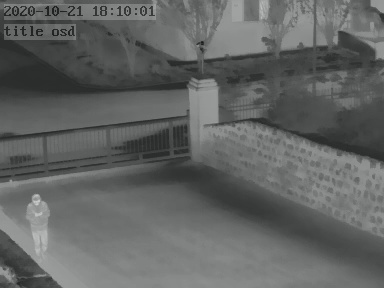person: (25, 192, 50, 257)
